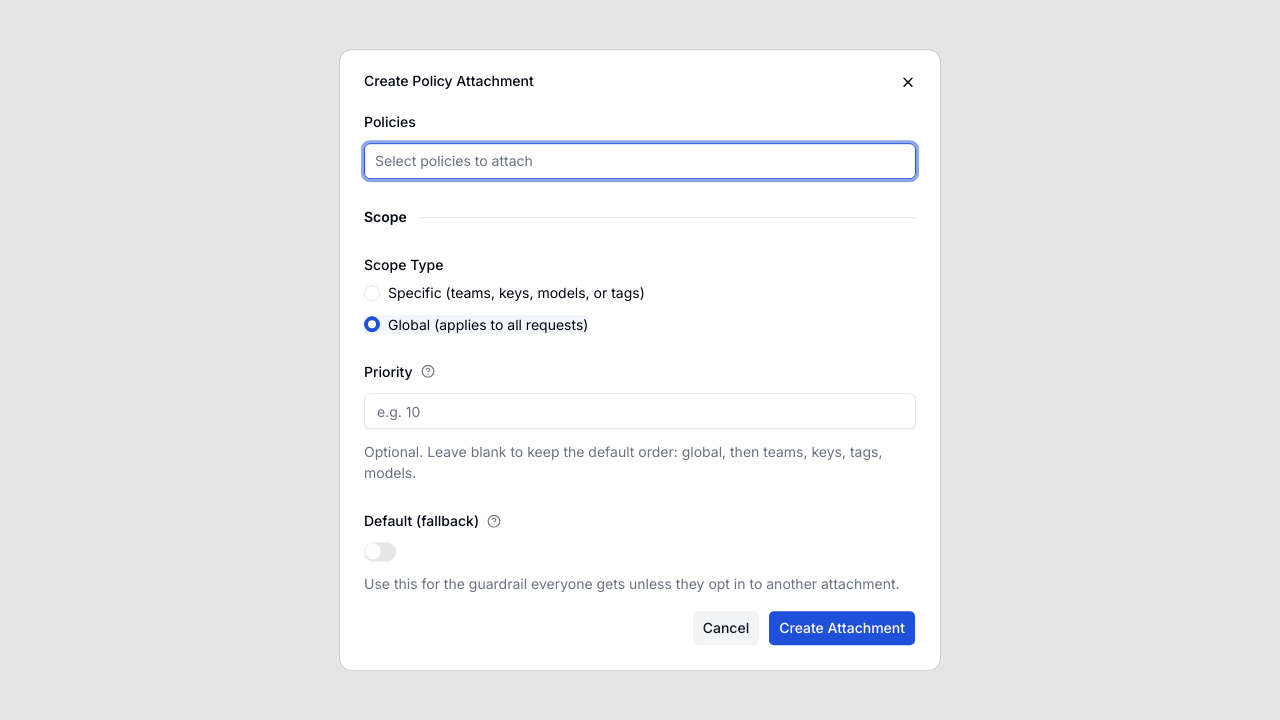
Test: AddAttachmentForm › should show Teams, Keys, Models, and Tags fields when scope is switched to specific
Expected: the heading "Create Policy Attachment" is shown, left=364, top=72, right=534, bottom=89
Click the radio button next to "Specific (teams, keys, models, or tags)" at (372, 293), box left=364, top=285, right=380, bottom=301
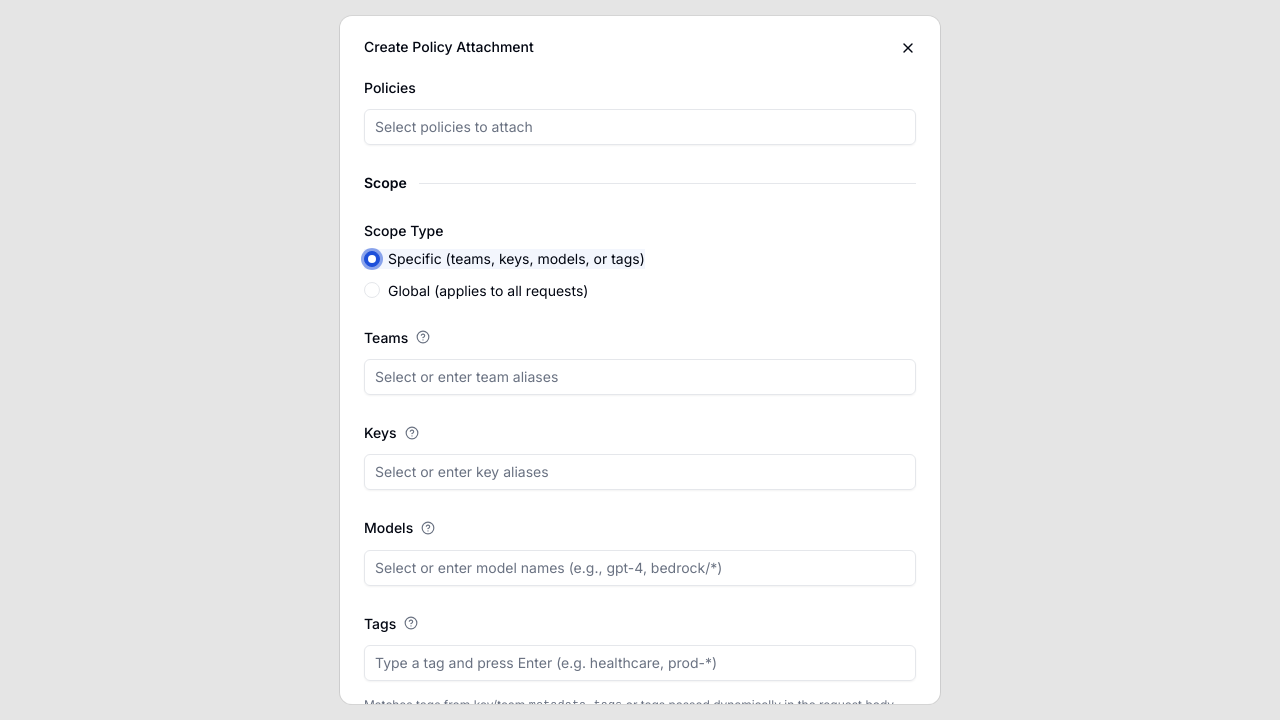
Expected: the text "Teams" is shown, left=364, top=329, right=430, bottom=346
Expected: the text "Tags" is shown, left=364, top=614, right=418, bottom=632
